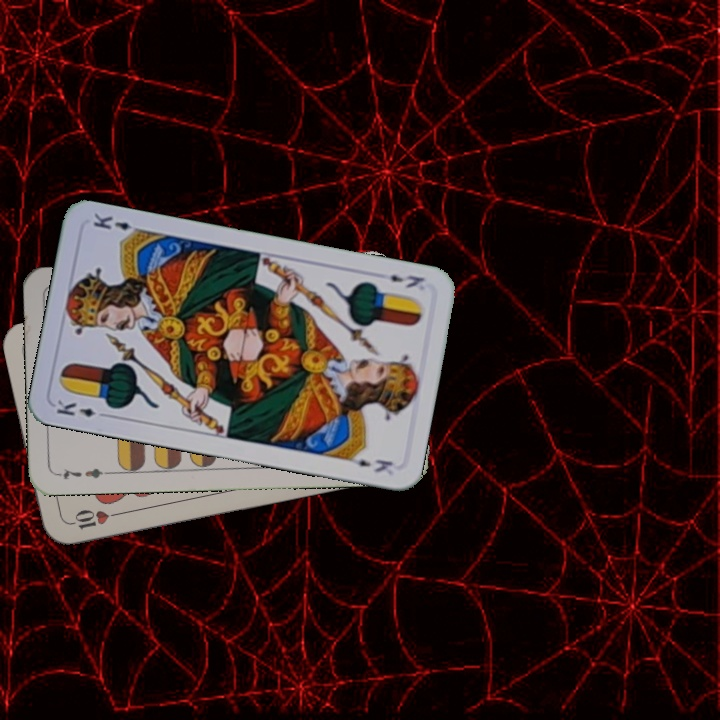E7: (53, 464, 112, 482)
EK: (52, 396, 111, 421), (386, 270, 427, 291)
H10: (64, 506, 123, 532)
